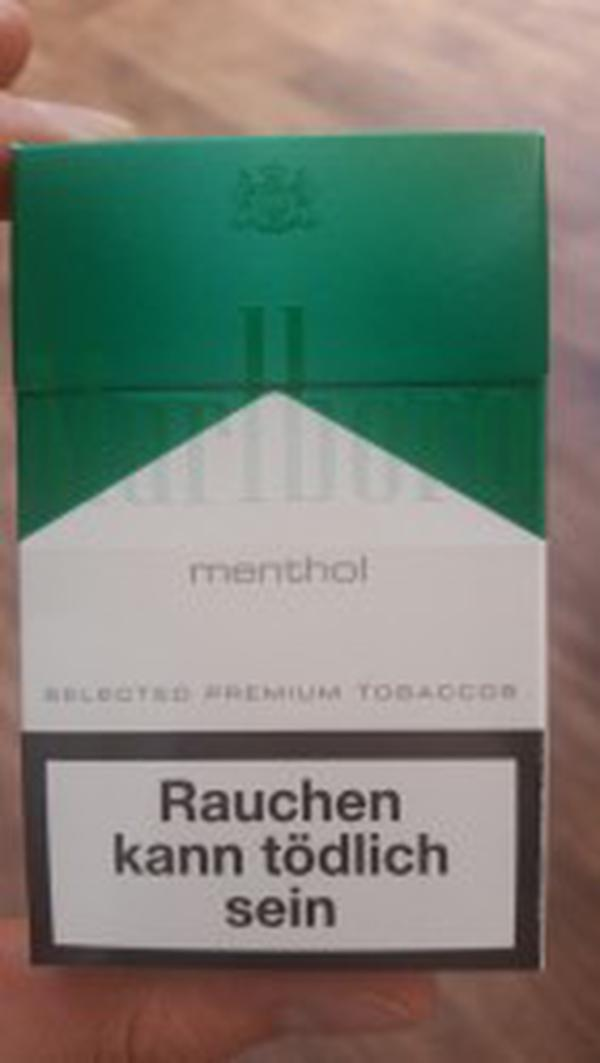marlboro_mentol: (25, 144, 540, 965)
